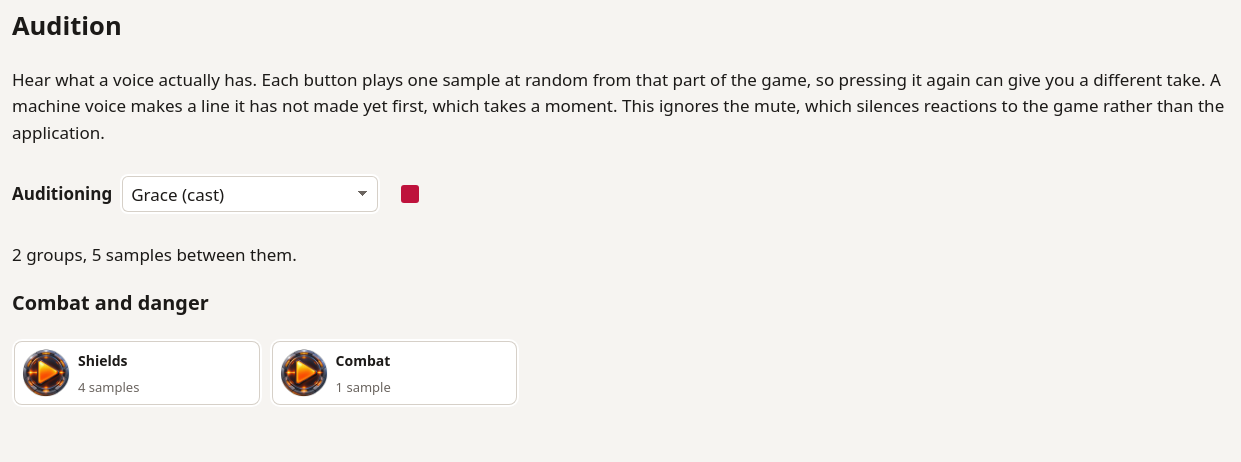
Test: the audition pane › reports a refused clip and puts the pulse out
Click the button "Shields4 samples": (137, 373) [12,339,262,408]
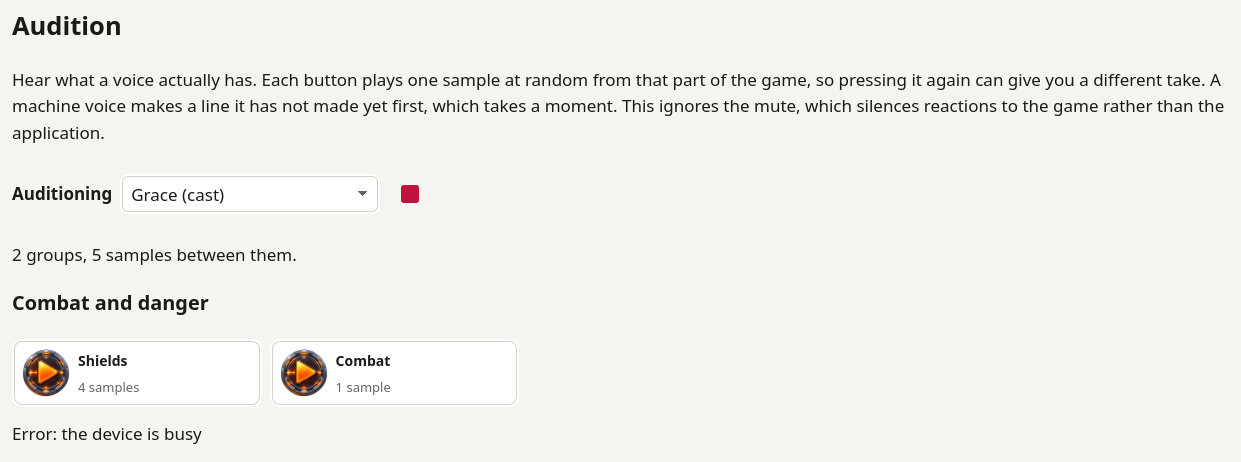
Now the text "Error: the device is busy" is shown, box [12,422,202,446]
